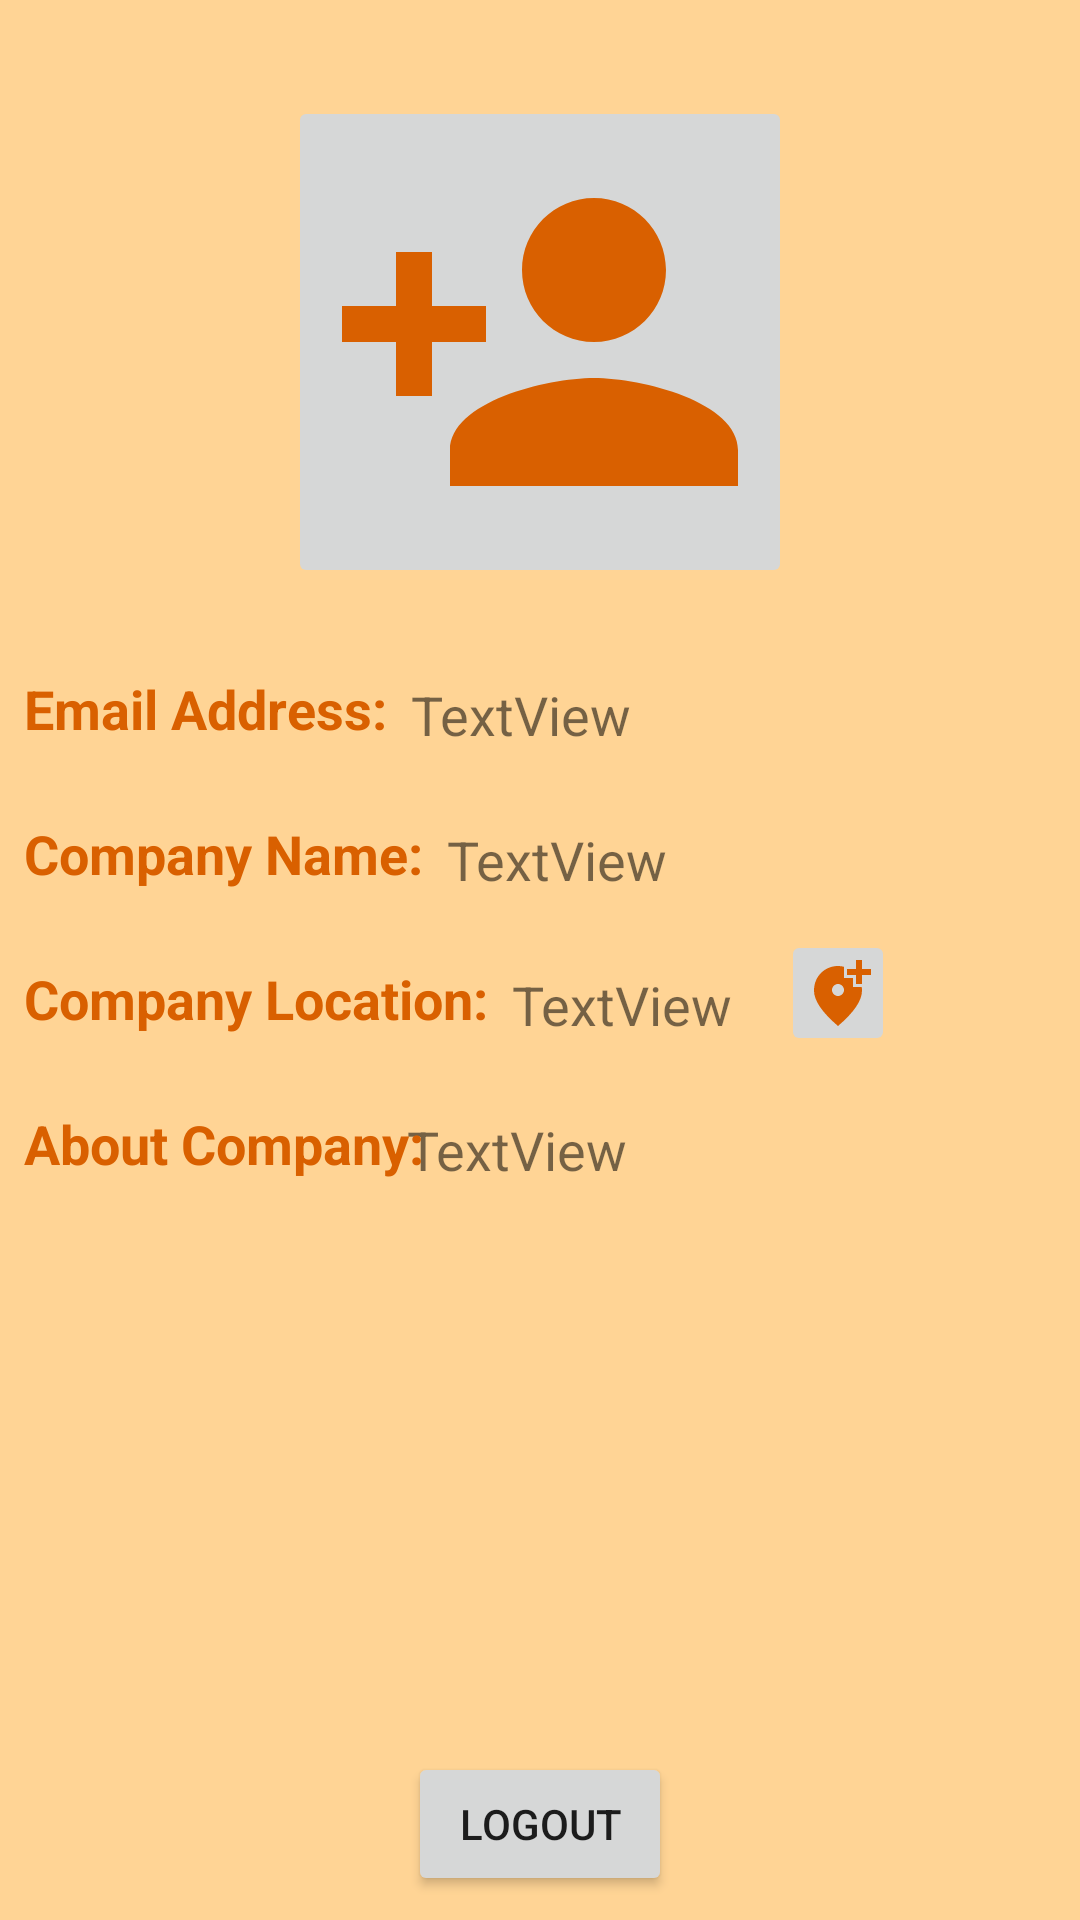

Named icons in this screenshot (1080 × 1920) and their bounding boxes, (x1, y1, x2, y2):
add location: (793, 948, 883, 1038)
